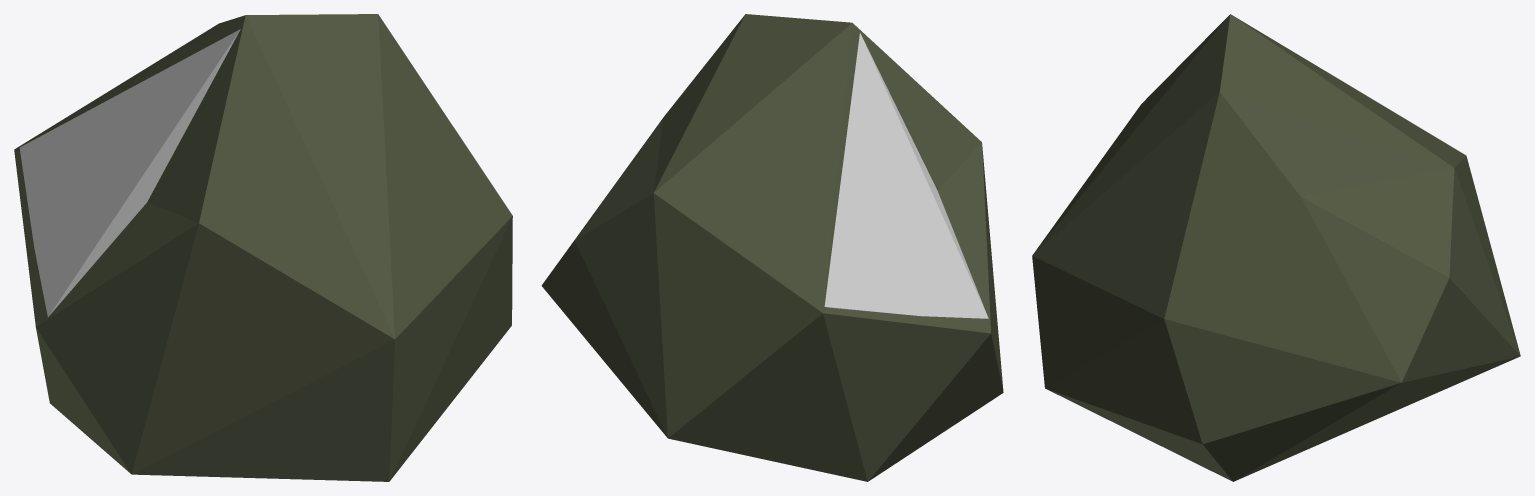
File: SM_Env_Bush_02.fbx
3 views of the same model, side by side, from view 1: azimuth 30°, elevation 25°; view 2: azimuth 150°, elevation 25°; view 3: azimuth 270°, elevation 25° (orthographic). The views are drawn at different scales.
Visible parts, largest first — view 1: SM_Env_Bush_02, SM_Env_Bush_02_ConvexHulls; view 2: SM_Env_Bush_02, SM_Env_Bush_02_ConvexHulls; view 3: SM_Env_Bush_02.
Part boxes in pixels (x1,y1,x2,y2): SM_Env_Bush_02: (14,14,512,481); SM_Env_Bush_02_ConvexHulls: (19,29,240,316); SM_Env_Bush_02: (541,14,1003,481); SM_Env_Bush_02_ConvexHulls: (824,33,988,318); SM_Env_Bush_02: (1032,14,1520,481).
Size of the model in its own units: 138 by 149 by 129.
Materials: 2 (1 with a texture image).
